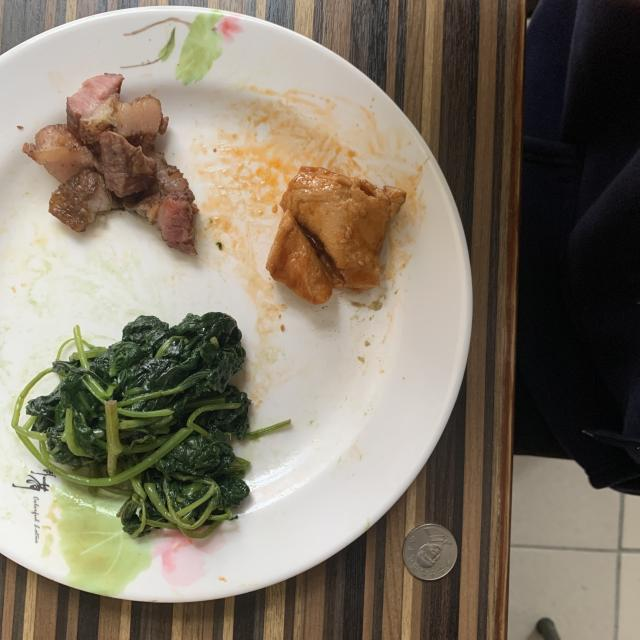coin: (402, 524, 458, 580)
creamy tofu: (266, 166, 406, 304)
grilled pork: (22, 74, 199, 254)
sweet potato leaves: (11, 311, 291, 539)
